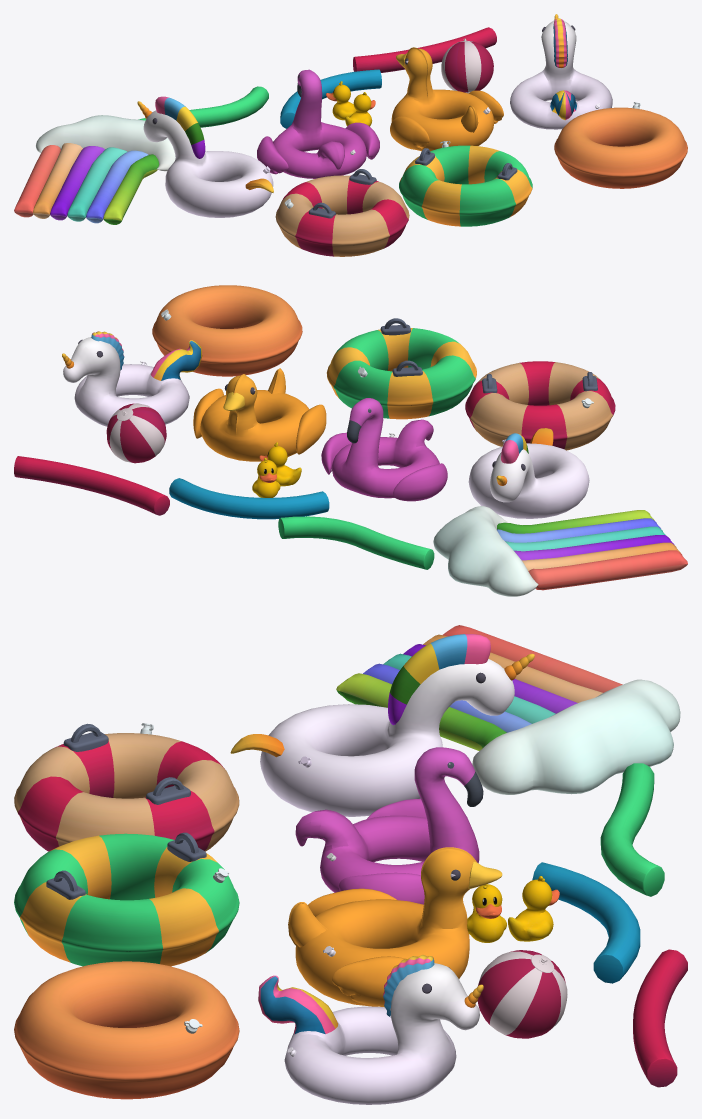
The picture shows the model from 3 angles, top to bottom: view 1: azimuth 30°, elevation 25°; view 2: azimuth 150°, elevation 25°; view 3: azimuth 270°, elevation 25°; orthographic projection. The views are drawn at different scales.
Visible parts, largest first — view 1: Rainbow (2), Lifebuoy-B, Lifebuoy-A, Lifebuoy-C, Life-Buoy-Unicorn-A, Lifebuoy-Duck, Flamingo (2), Lifebuoy-Unicorn-B (2), Beach-Ball, Foam-Sausage-1, Foam-Sausage-3, Foam-Sausage-2 (+1 smaller); view 2: Rainbow (2), Lifebuoy-A, Lifebuoy-C, Lifebuoy-B, Flamingo (2), Lifebuoy-Duck, Lifebuoy-Unicorn-B (2), Life-Buoy-Unicorn-A, Foam-Sausage-2, Foam-Sausage-3, Foam-Sausage-1, Beach-Ball (+1 smaller); view 3: Rainbow (2), Lifebuoy-C, Lifebuoy-A, Life-Buoy-Unicorn-A, Lifebuoy-B, Lifebuoy-Unicorn-B (2), Lifebuoy-Duck, Flamingo (2), Beach-Ball, Foam-Sausage-2, Foam-Sausage-3, Foam-Sausage-1 (+1 smaller).
Boxes of the visible parts, x1=… form: Rainbow (2): x1=14, y1=115, x2=175, y2=224; Lifebuoy-B: x1=275, y1=169, x2=409, y2=256; Lifebuoy-A: x1=399, y1=141, x2=532, y2=226; Lifebuoy-C: x1=554, y1=102, x2=687, y2=188; Life-Buoy-Unicorn-A: x1=137, y1=96, x2=273, y2=217; Lifebuoy-Duck: x1=390, y1=47, x2=503, y2=151; Flamingo (2): x1=257, y1=69, x2=379, y2=178; Lifebuoy-Unicorn-B (2): x1=510, y1=14, x2=612, y2=129; Beach-Ball: x1=441, y1=38, x2=493, y2=93; Foam-Sausage-1: x1=353, y1=27, x2=496, y2=72; Foam-Sausage-3: x1=138, y1=86, x2=268, y2=127; Foam-Sausage-2: x1=280, y1=69, x2=381, y2=128; Rainbow (2): x1=433, y1=506, x2=687, y2=596; Lifebuoy-A: x1=326, y1=318, x2=476, y2=419; Lifebuoy-C: x1=152, y1=285, x2=302, y2=376; Lifebuoy-B: x1=465, y1=361, x2=615, y2=450; Flamingo (2): x1=321, y1=398, x2=447, y2=501; Lifebuoy-Duck: x1=193, y1=368, x2=326, y2=461; Lifebuoy-Unicorn-B (2): x1=62, y1=331, x2=202, y2=426; Life-Buoy-Unicorn-A: x1=468, y1=428, x2=589, y2=518; Foam-Sausage-2: x1=169, y1=478, x2=329, y2=519; Foam-Sausage-3: x1=278, y1=516, x2=434, y2=569; Foam-Sausage-1: x1=14, y1=456, x2=169, y2=515; Beach-Ball: x1=106, y1=403, x2=166, y2=463; Rainbow (2): x1=336, y1=625, x2=680, y2=794; Lifebuoy-C: x1=14, y1=961, x2=239, y2=1099; Lifebuoy-A: x1=14, y1=832, x2=239, y2=966; Life-Buoy-Unicorn-A: x1=230, y1=634, x2=534, y2=816; Lifebuoy-B: x1=14, y1=723, x2=239, y2=851; Lifebuoy-Unicorn-B (2): x1=258, y1=955, x2=483, y2=1104; Lifebuoy-Duck: x1=288, y1=847, x2=502, y2=1007; Flamingo (2): x1=295, y1=747, x2=483, y2=904; Beach-Ball: x1=477, y1=950, x2=567, y2=1038; Foam-Sausage-2: x1=532, y1=862, x2=640, y2=983; Foam-Sausage-3: x1=600, y1=763, x2=664, y2=896; Foam-Sausage-1: x1=633, y1=949, x2=687, y2=1087.
Bounding box in the file's own units: 17.83 × 2.49 × 10.91.
Materials: 7 (7 with a texture image).
